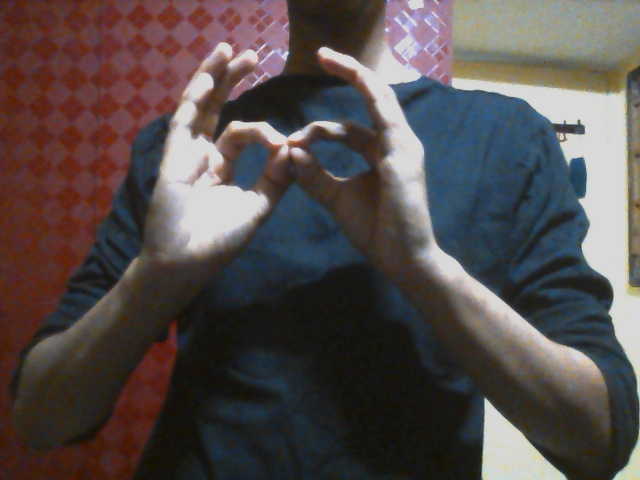B: (143, 41, 431, 277)
